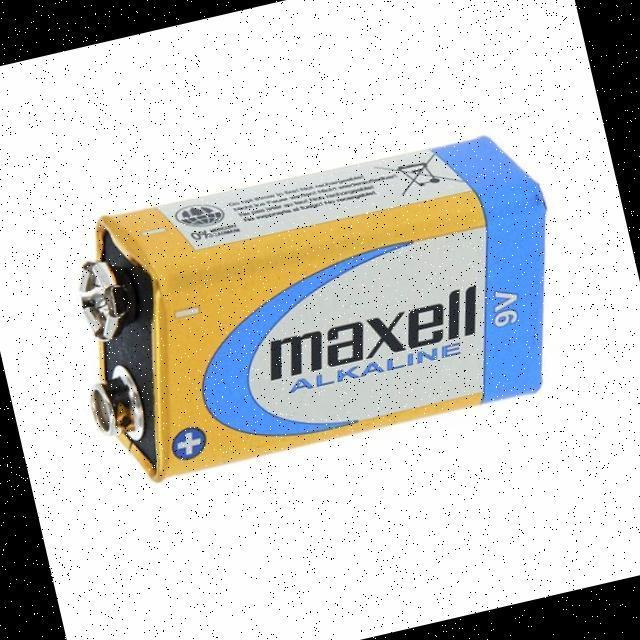9V: (78, 134, 547, 482)
